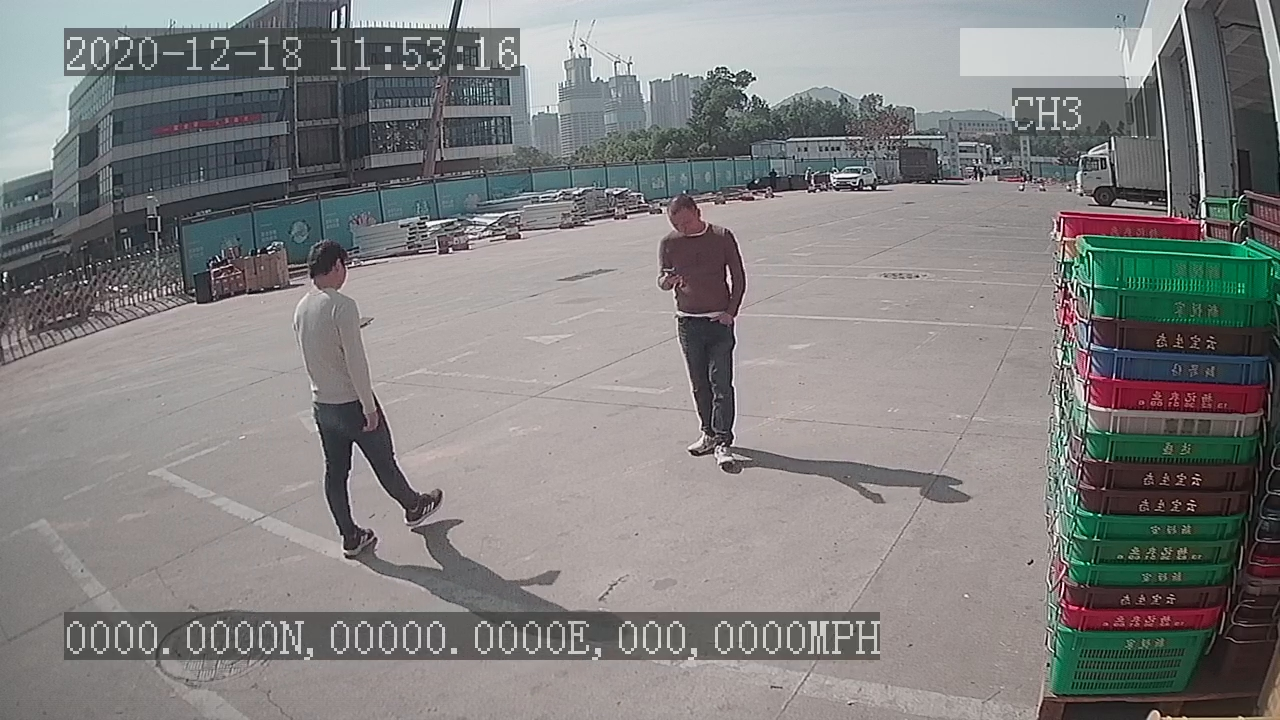person: (283, 233, 452, 563), (651, 181, 754, 483)
